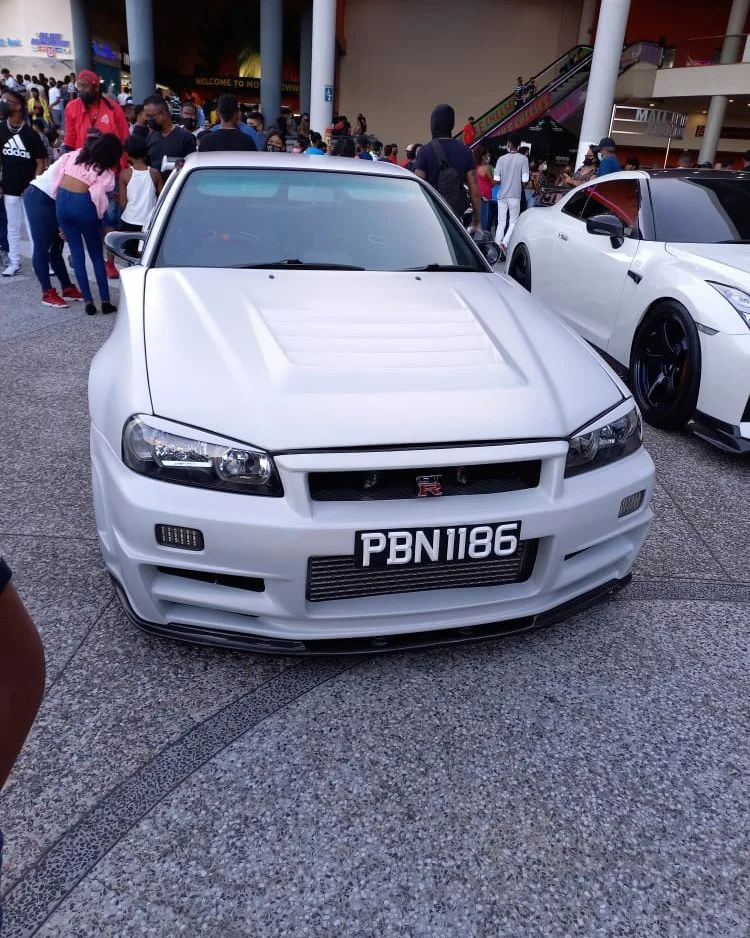License-Plate: (355, 530, 520, 568)
